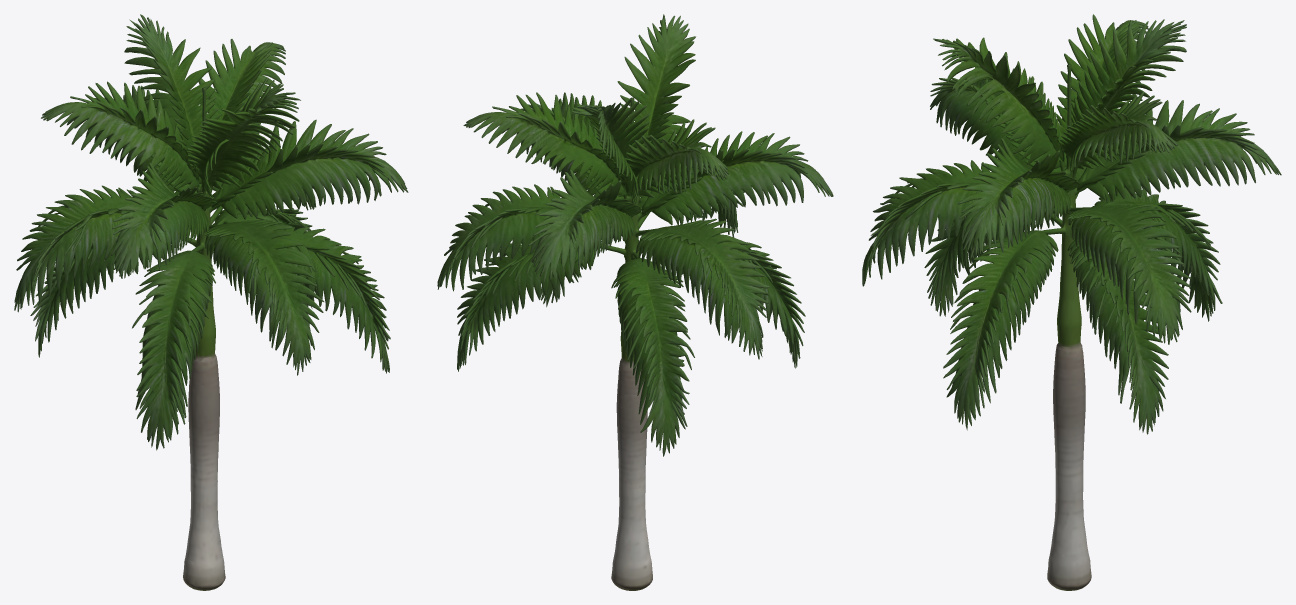
The model's file is palm_royal.glb.
The picture shows the model from 3 angles, left to right: view 1: azimuth 30°, elevation 25°; view 2: azimuth 150°, elevation 25°; view 3: azimuth 270°, elevation 25°; orthographic projection. The views are drawn at different scales.
Parts seen in each view (by area): view 1: tripo_node_fd9e3f69-e8b5-4120-bd96-16585903c1a8; view 2: tripo_node_fd9e3f69-e8b5-4120-bd96-16585903c1a8; view 3: tripo_node_fd9e3f69-e8b5-4120-bd96-16585903c1a8.
Boxes of the visible parts, box(x1,y1,x2,y2) form: tripo_node_fd9e3f69-e8b5-4120-bd96-16585903c1a8: box(14, 14, 408, 590); tripo_node_fd9e3f69-e8b5-4120-bd96-16585903c1a8: box(437, 14, 833, 590); tripo_node_fd9e3f69-e8b5-4120-bd96-16585903c1a8: box(862, 14, 1281, 590).
Size of the model in its own units: 0.6114 by 0.9806 by 0.6671.
1 material, 1 textured.
